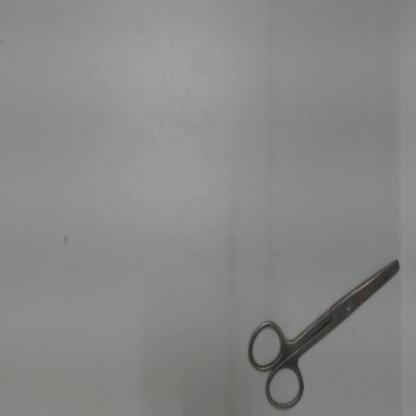Dressing Scissors: (238, 250, 408, 414)
